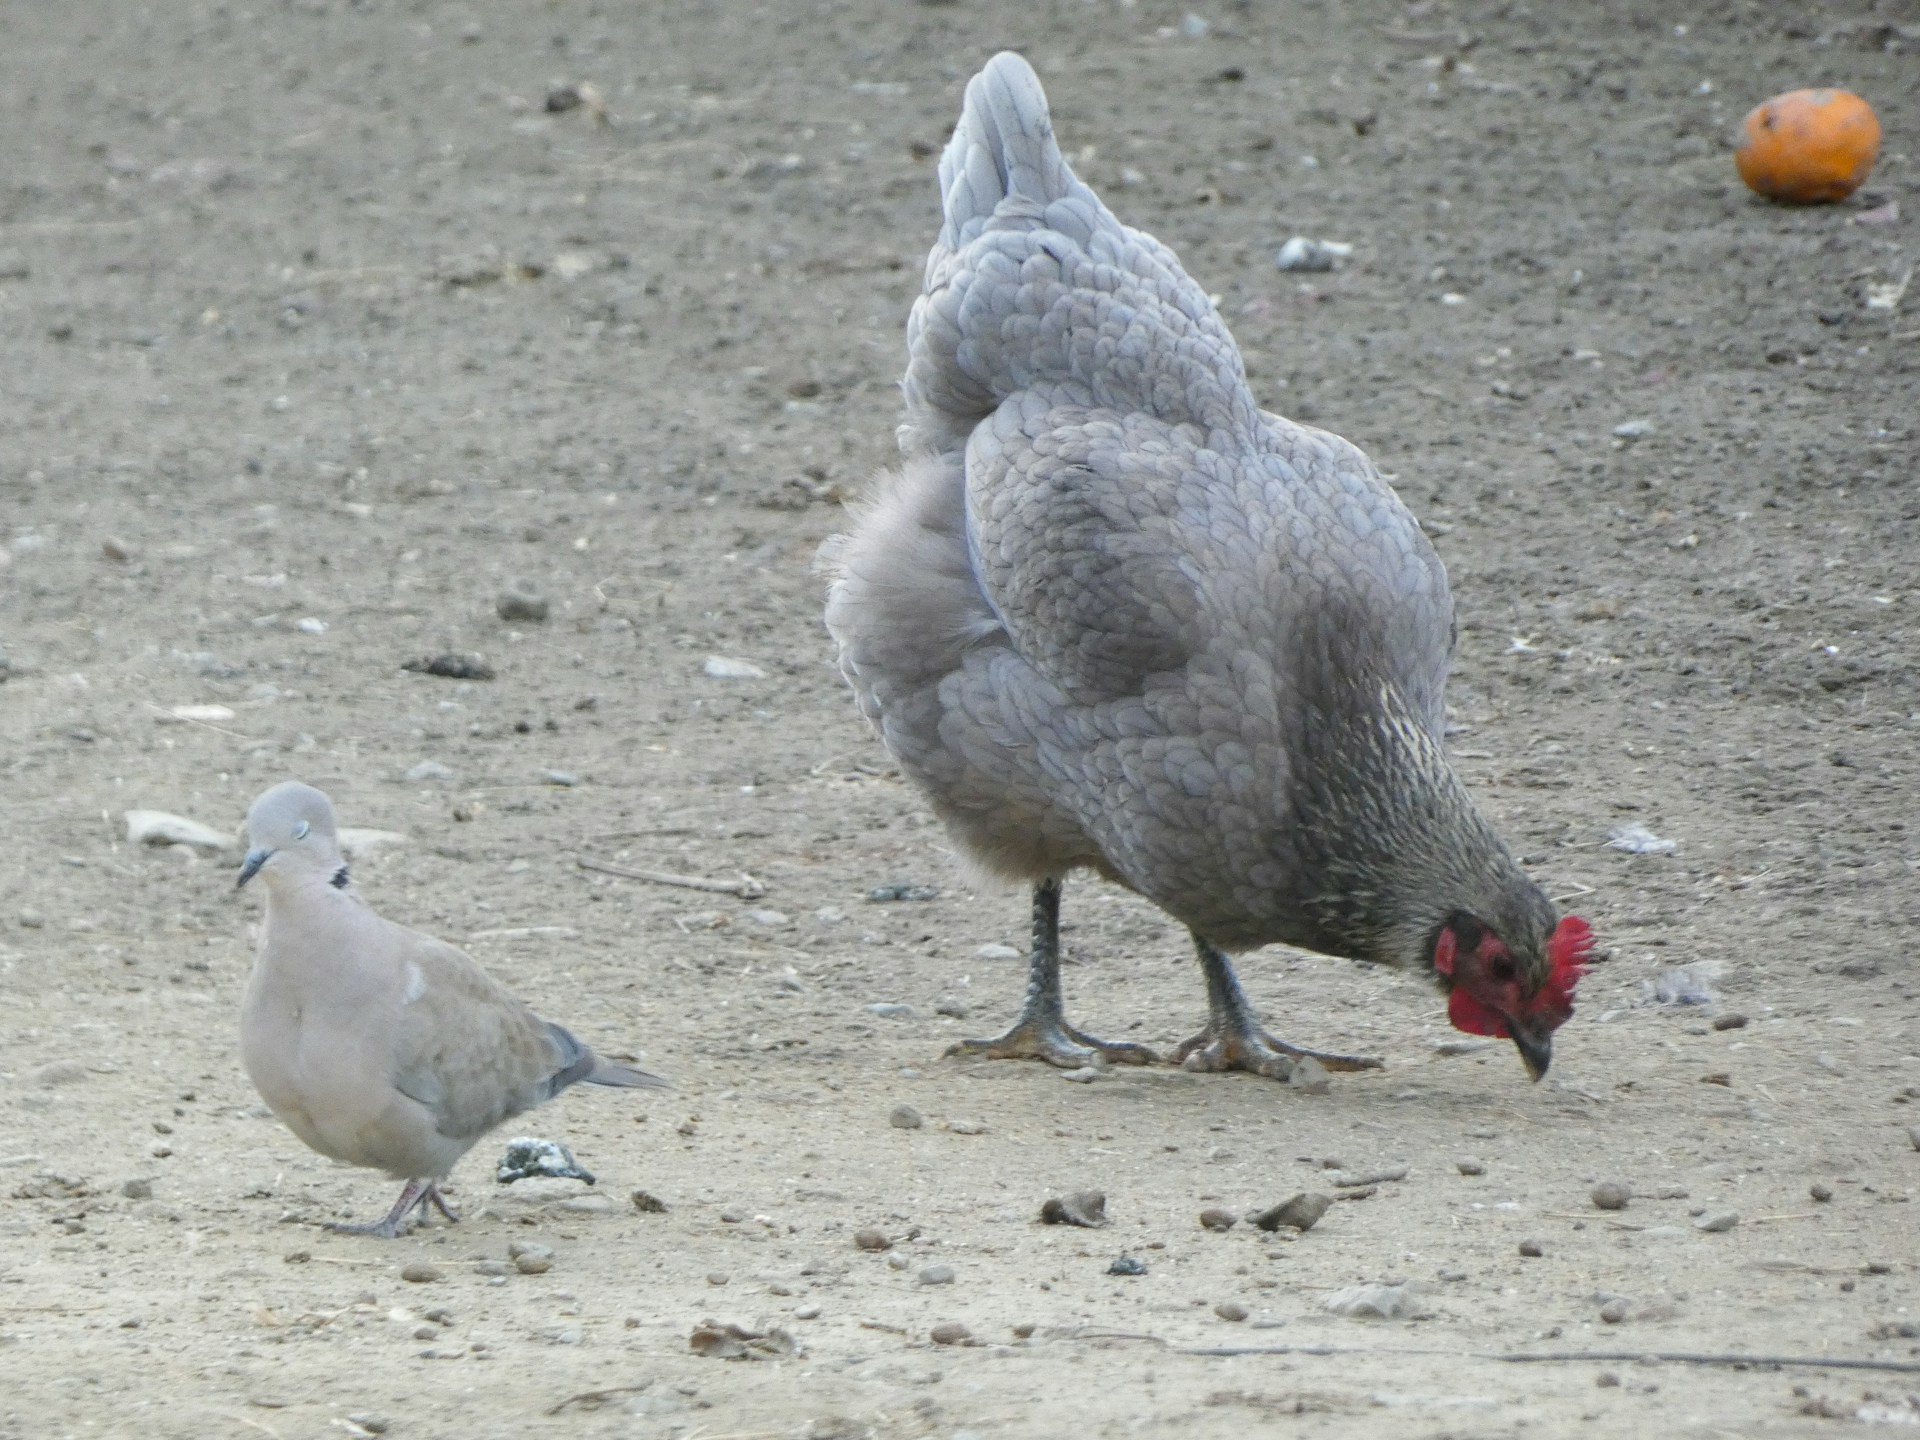hen: (816, 36, 1615, 1104)
